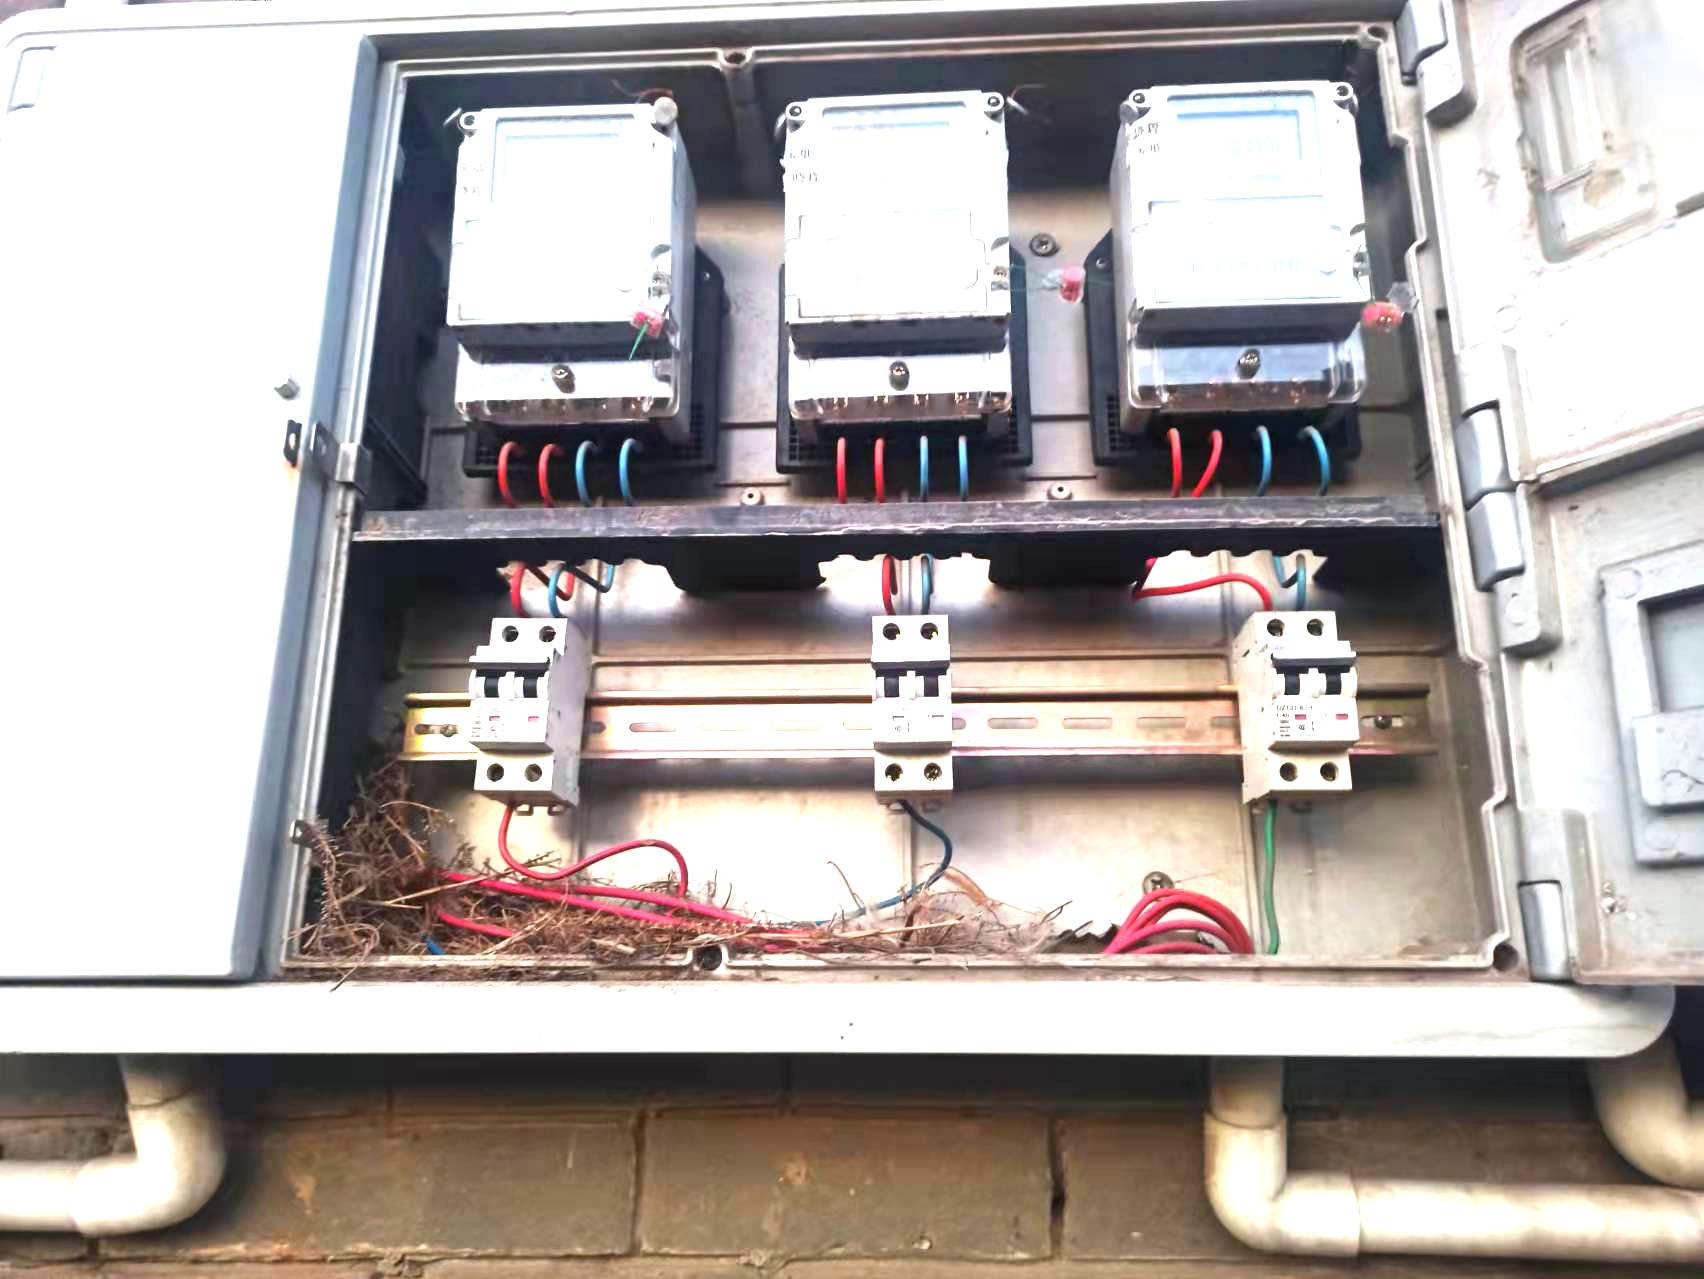digital: (1127, 83, 1367, 313), (783, 91, 1007, 325), (447, 103, 669, 330)
